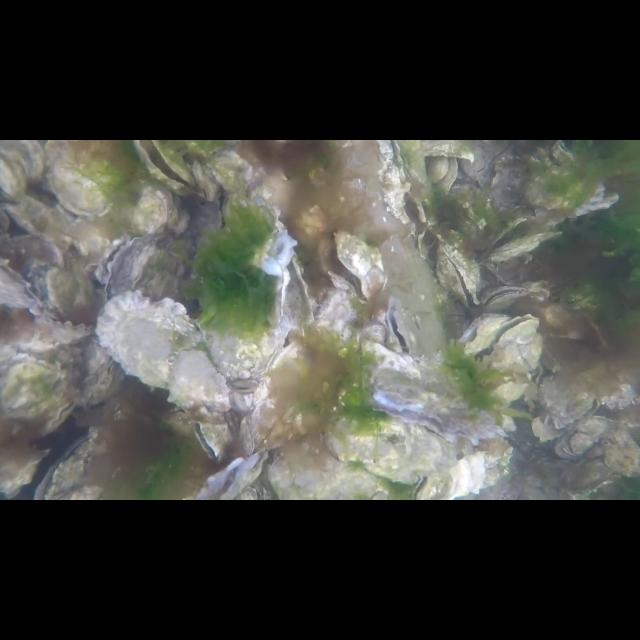Oyster-Closed: (95, 290, 232, 410), (335, 421, 461, 485), (249, 338, 315, 446), (49, 142, 117, 214), (0, 356, 78, 418), (9, 192, 77, 250), (43, 262, 99, 314), (490, 229, 568, 263), (0, 140, 44, 200), (312, 286, 356, 344), (128, 188, 172, 236), (40, 311, 94, 339), (396, 140, 426, 184), (360, 319, 388, 345)
Oyster-Open: (206, 147, 298, 277), (370, 364, 506, 446), (34, 430, 114, 500), (322, 226, 384, 304), (376, 140, 426, 226), (534, 364, 600, 426), (196, 448, 268, 500), (478, 312, 540, 372), (134, 140, 198, 192), (437, 245, 485, 307), (94, 230, 140, 290), (280, 253, 314, 331), (0, 256, 44, 310), (458, 313, 512, 353), (386, 296, 420, 354), (40, 394, 82, 436), (193, 418, 229, 458), (488, 286, 532, 310)
